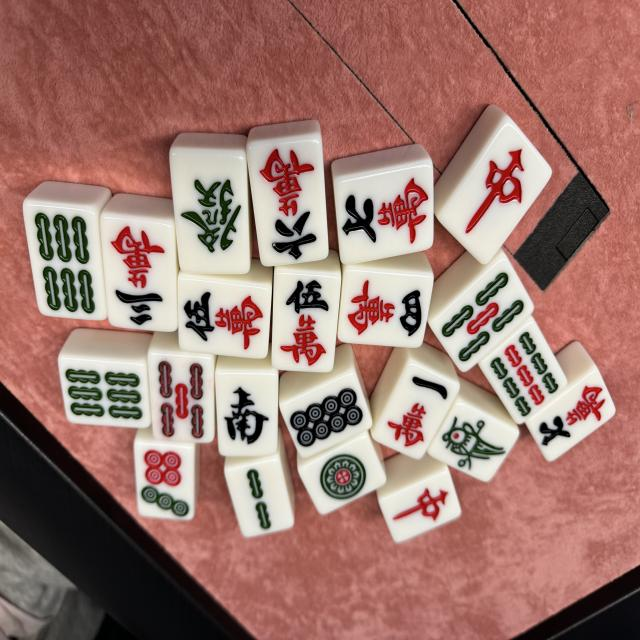hdg: (168, 148, 251, 275)
hdr: (437, 114, 552, 265), (379, 468, 463, 544)
hws: (215, 372, 280, 458)
sb1: (427, 399, 521, 483)
sb2: (224, 456, 295, 538)
sb5: (430, 258, 534, 372), (148, 354, 215, 444)
sb6: (22, 202, 106, 321), (58, 354, 150, 428)
sb9: (478, 319, 566, 423)
sc1: (371, 360, 459, 460)
sc3: (101, 214, 177, 332)
sc4: (338, 267, 433, 347)
sc5: (177, 276, 272, 359), (272, 271, 342, 372)
sc6: (246, 136, 328, 267)
sc7: (334, 159, 433, 265), (525, 368, 616, 463)
sd1: (298, 431, 386, 516)
sd7: (134, 443, 194, 520)
sd8: (279, 370, 372, 458)
